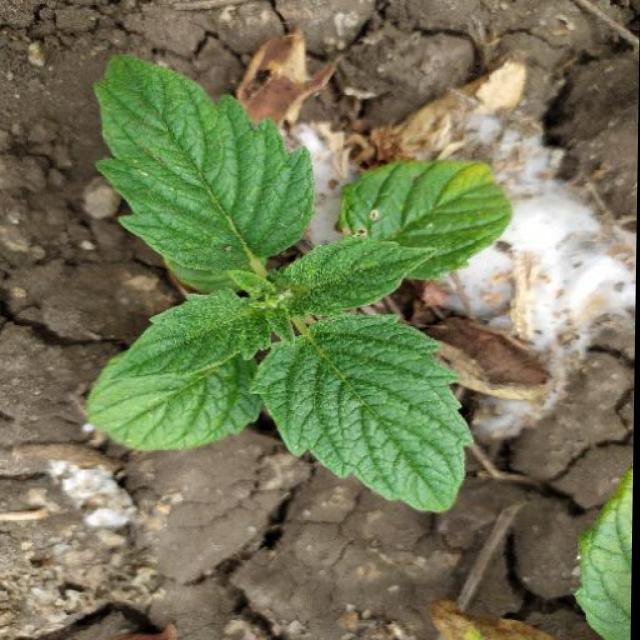crop: (84, 55, 519, 526)
